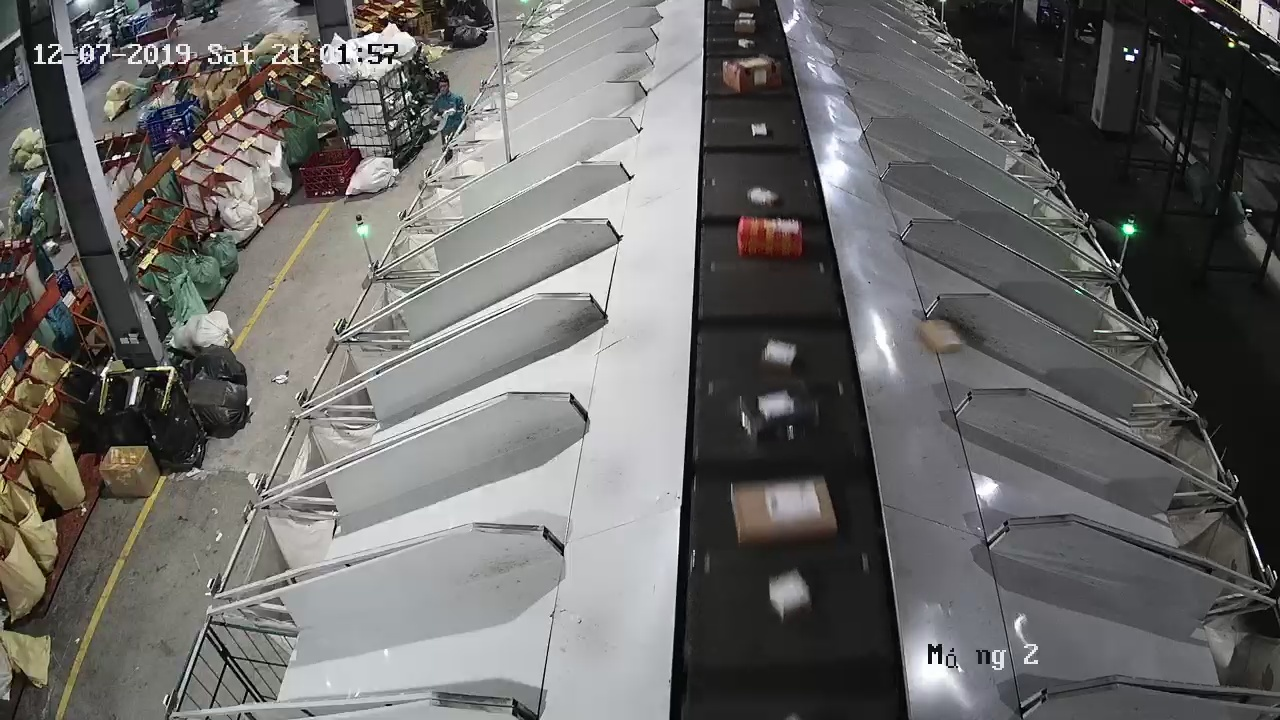parcel: (914, 317, 963, 354)
